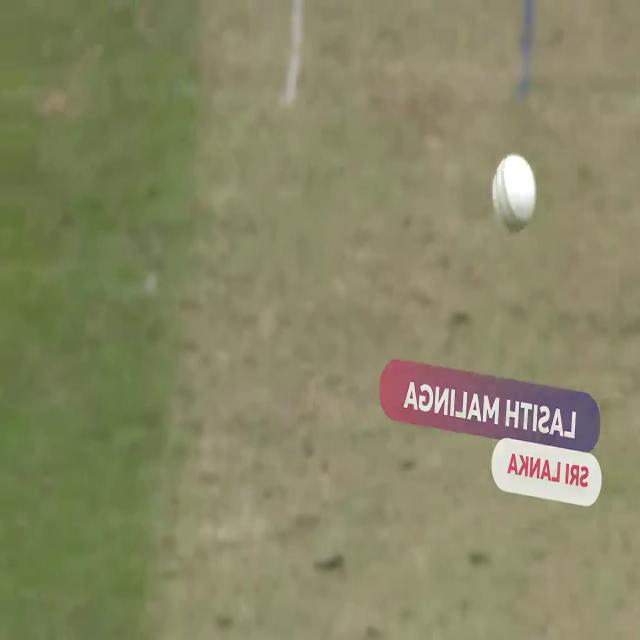ball: (487, 149, 543, 240)
